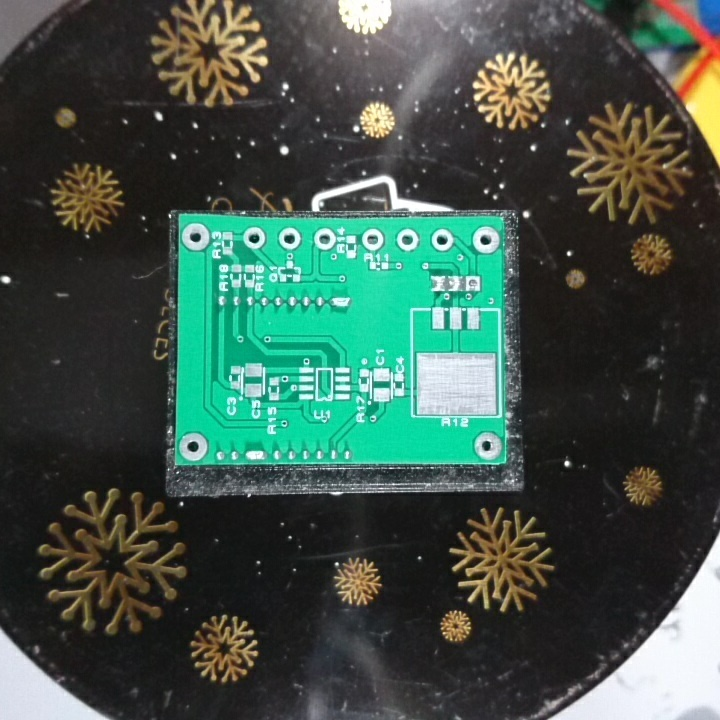F: (176, 431, 211, 463), (180, 219, 208, 255), (470, 226, 501, 258), (470, 431, 503, 460), (427, 226, 456, 254), (275, 225, 305, 252), (240, 226, 272, 251), (393, 226, 422, 253), (311, 226, 337, 253), (359, 227, 387, 252), (464, 272, 484, 298)
P: (326, 294, 356, 314), (242, 446, 270, 464)
